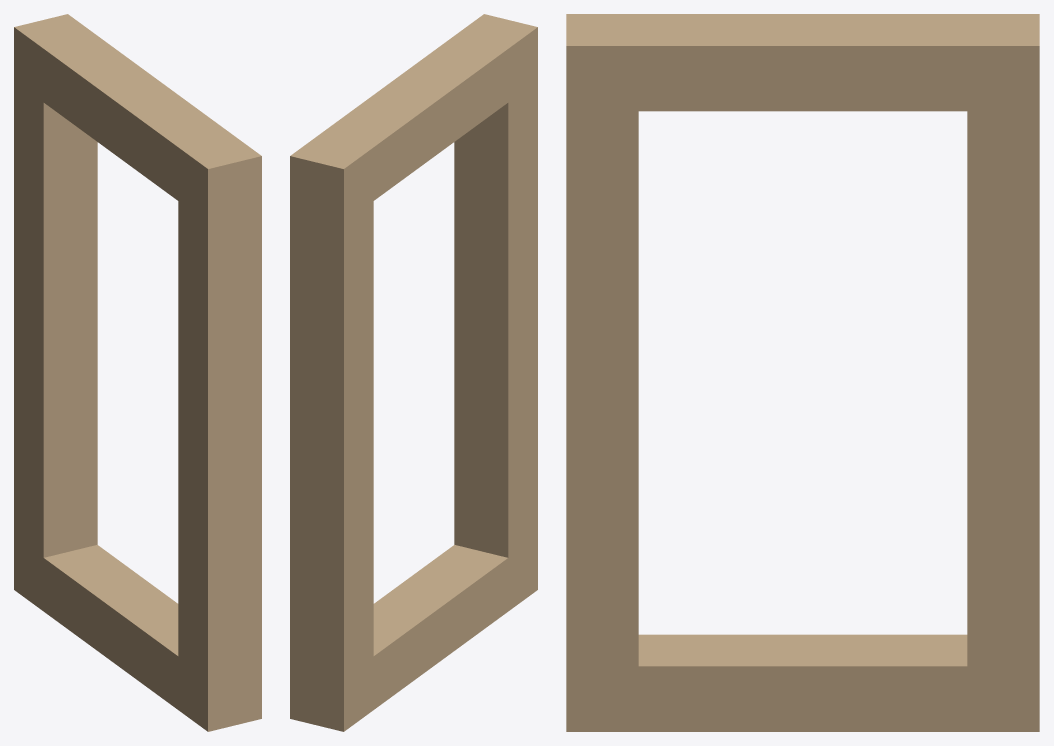
File: detail_014.glb
3 views of the same model, side by side, from view 1: azimuth 30°, elevation 25°; view 2: azimuth 150°, elevation 25°; view 3: azimuth 270°, elevation 25° (orthographic). The views are drawn at different scales.
Parts seen in each view (by area): view 1: detail_014; view 2: detail_014; view 3: detail_014.
Boxes of the visible parts, x1,y1,x2,y2 form: detail_014: (14,14,261,731); detail_014: (290,14,537,731); detail_014: (566,14,1039,731).
Size of the model in its own units: 0.05 by 0.5 by 0.3125.
